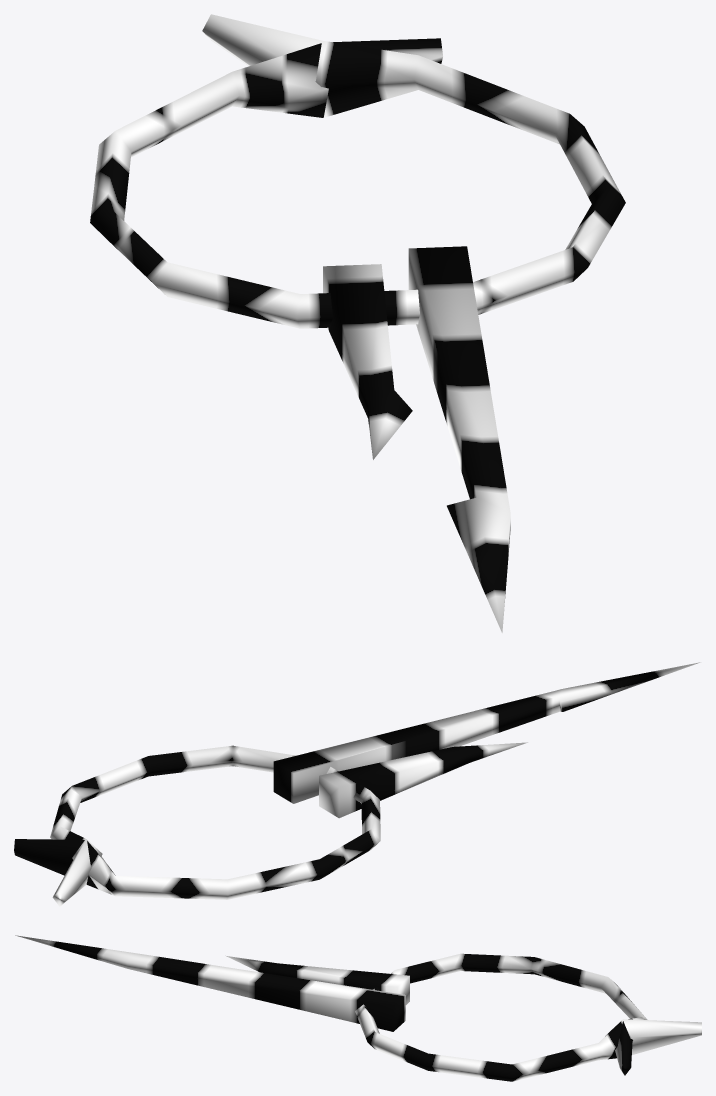
Rendered from initqi30.dae.
3 views of the same model, one above another, from view 1: azimuth 30°, elevation 25°; view 2: azimuth 150°, elevation 25°; view 3: azimuth 270°, elevation 25° (orthographic). The views are drawn at different scales.
Visible parts, largest first — view 1: item; view 2: item; view 3: item.
Boxes of the visible parts, x1,y1,x2,y2 form: item: (90, 14, 625, 632); item: (14, 662, 700, 906); item: (15, 935, 701, 1081).
Bounding box in the file's own units: 0.7214 × 1.48 × 0.0915.
Materials: 1 (1 with a texture image).
